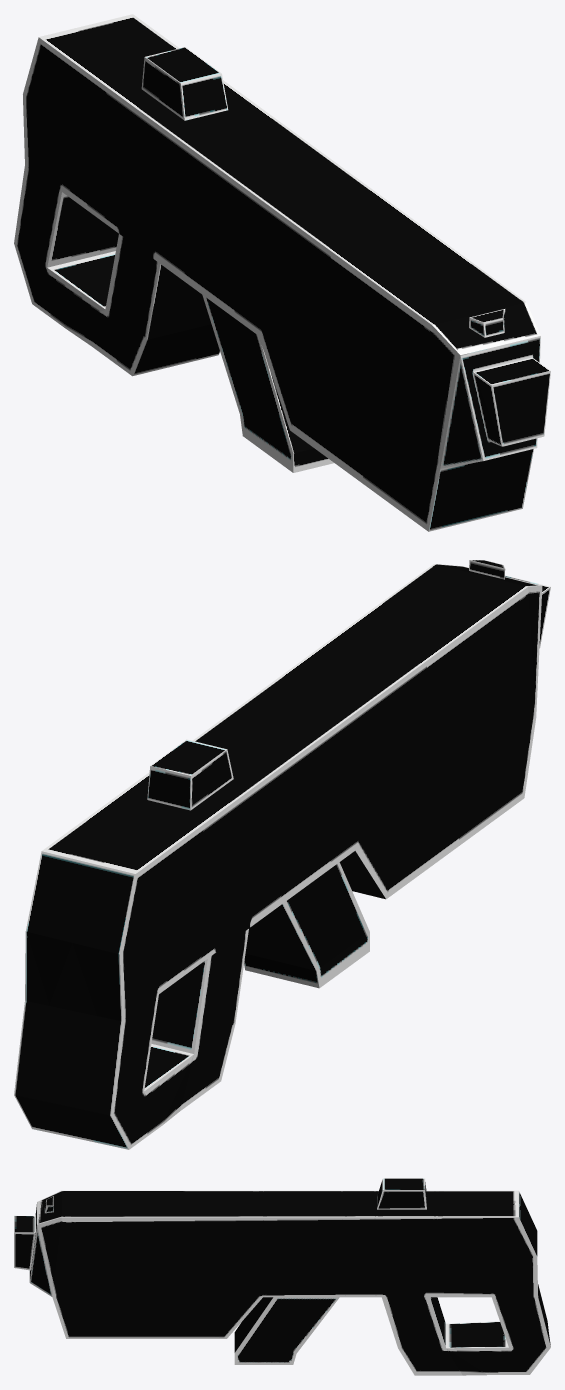
Rendered from V3_riffle_scaling.fbx.
The picture shows the model from 3 angles, top to bottom: view 1: azimuth 30°, elevation 25°; view 2: azimuth 150°, elevation 25°; view 3: azimuth 270°, elevation 25°; orthographic projection. The views are drawn at different scales.
Visible parts, largest first — view 1: Rifle; view 2: Rifle; view 3: Rifle.
Part boxes in pixels (x1,y1,x2,y2): Rifle: [14, 14, 550, 531]; Rifle: [14, 560, 550, 1149]; Rifle: [14, 1178, 550, 1375].
Size of the model in its own units: 8.11 by 25.28 by 68.87.
